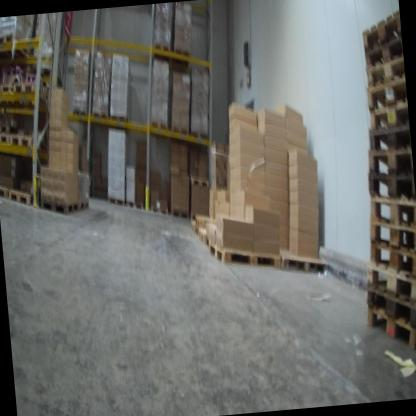pallet: (363, 252, 416, 311), (208, 236, 283, 276), (364, 276, 416, 333), (367, 300, 416, 353), (367, 233, 416, 284), (368, 189, 416, 236), (367, 210, 416, 255), (365, 142, 413, 185), (363, 73, 408, 117), (364, 169, 416, 206), (362, 10, 401, 55), (278, 243, 331, 276), (366, 119, 412, 156), (365, 56, 406, 93), (366, 97, 408, 131), (362, 36, 404, 69), (12, 79, 42, 114), (0, 29, 29, 64), (9, 129, 49, 154), (40, 194, 81, 218), (0, 79, 20, 110), (172, 43, 193, 71), (9, 186, 34, 207), (152, 42, 175, 63), (71, 104, 91, 125), (189, 173, 211, 191), (197, 225, 215, 246), (0, 122, 23, 137), (90, 107, 110, 124), (107, 112, 128, 128), (124, 197, 146, 212), (0, 182, 17, 201), (151, 117, 170, 134), (171, 206, 190, 222), (194, 213, 211, 230), (190, 129, 209, 144), (149, 203, 170, 216), (106, 193, 126, 206), (0, 37, 10, 63), (76, 197, 92, 213), (172, 123, 189, 138), (0, 132, 12, 149), (189, 220, 196, 234), (195, 226, 200, 238)
